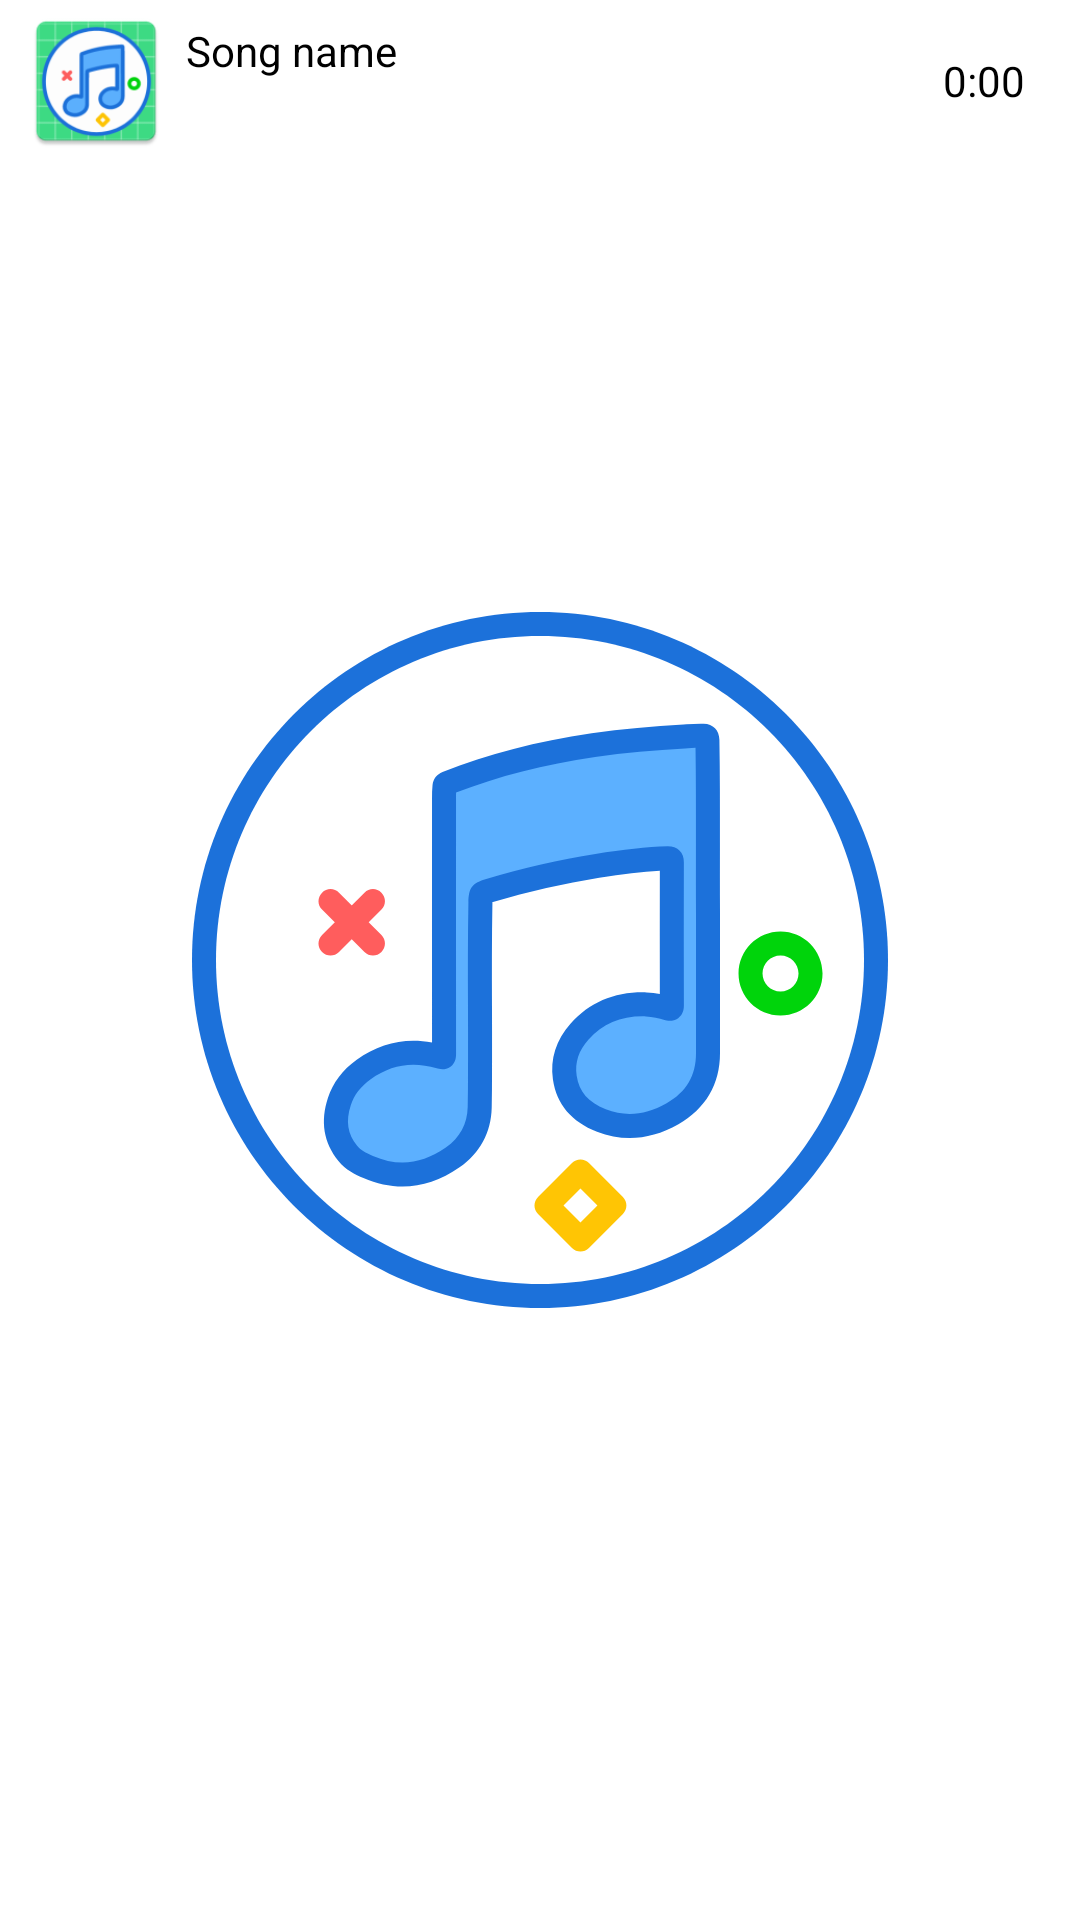

Icons on this 1080px x 1920px Android screen, each with its box as (x1, y1, x2, y2):
app: (36, 21, 157, 144)
